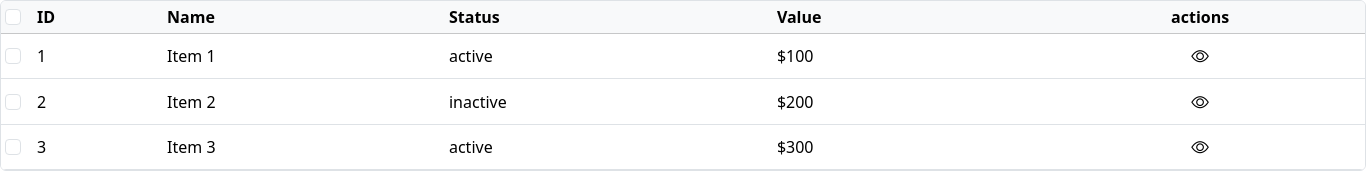
Test case: DataTable › Selection › select-all checkbox selects all rows
Click the checkbox named "Select all rows". click: (13, 17)
box: [5,9,21,25]
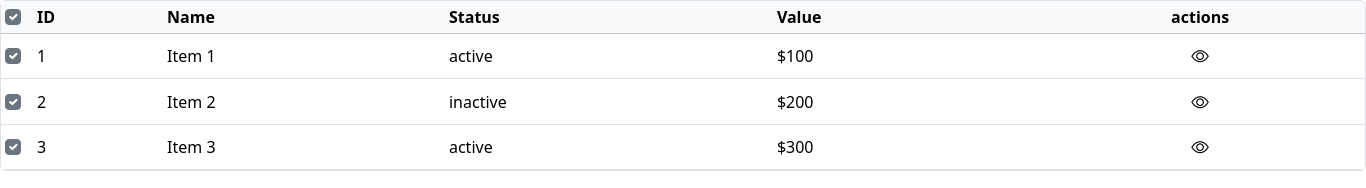
Expected: the checkbox named "Select row" in the row of "Item 1" is checked, [5,48,21,64]
Expected: the checkbox named "Select row" in the row of "Item 2" is checked, [5,94,21,110]
Expected: the checkbox named "Select row" in the row of "Item 3" is checked, [5,139,21,155]
